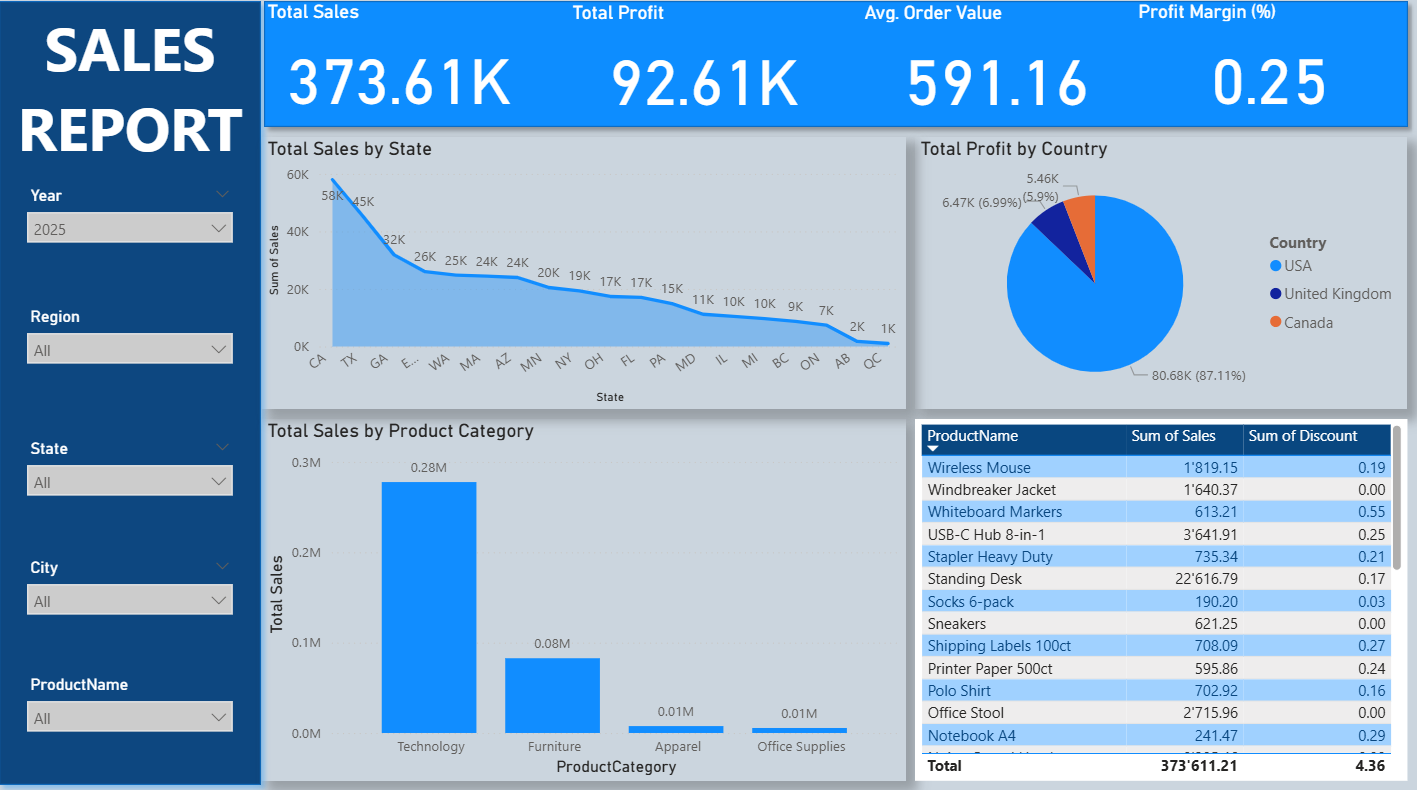

The dashboard page shown, as its layout file describes it:
{"tool":"powerbi","page":{"name":"Page 1","canvas":[1280,720],"ordinal":0},"visuals":[{"type":"shape","box":[0,0,252.5,720],"z":0},{"type":"shape","box":[237.3,0,1042.4,130.7],"z":1000},{"type":"areaChart","title":"Total Sales by State","fields":{"Category":["sales_data.State"],"Y":["Sum(sales_data.Sales)"]},"box":[244.5,130.7,576.7,243.6],"z":2000},{"type":"pieChart","fields":{"Y":["sales_data.Total Profit"],"Category":["sales_data.Country"]},"box":[829.3,130.7,441.5,243.6],"z":3000},{"type":"clusteredColumnChart","title":"Total Sales by Product Category","fields":{"Y":["sales_data.Total Sales"],"Category":["sales_data.ProductCategory"]},"box":[244.5,383.3,576.7,324.2],"z":4000},{"type":"tableEx","fields":{"Values":["sales_data.ProductName","Sum(sales_data.Sales)","Sum(sales_data.Discount)"]},"box":[829.3,383.3,441.5,324.2],"z":5000},{"type":"card","title":"Total Sales","fields":{"Values":["sales_data.Total Sales"]},"box":[244.5,8.1,245.4,112.8],"z":6000},{"type":"card","title":"Total Profit","fields":{"Values":["sales_data.Total Profit"]},"box":[517.6,9,245.4,112.8],"z":7000},{"type":"card","title":"Avg. Order Value","fields":{"Values":["sales_data.Avg Order Value"]},"box":[779.1,9,245.4,112.8],"z":8000},{"type":"card","title":"Profit Margin (%)","fields":{"Values":["sales_data.Profit Margin %"]},"box":[1024.5,8.1,245.4,112.8],"z":9000},{"type":"textbox","box":[12.5,9,227.5,161.2],"z":10000},{"type":"slicer","fields":{"Values":["sales_data.OrderDate.Variation.Date Hierarchy.Year"]},"box":[24.2,170.1,204.2,70.7],"z":11000},{"type":"slicer","fields":{"Values":["sales_data.Region"]},"box":[24.2,278.5,204.2,70.7],"z":11001},{"type":"slicer","fields":{"Values":["sales_data.State"]},"box":[24.2,396.7,204.2,79.7],"z":11002},{"type":"slicer","fields":{"Values":["sales_data.City"]},"box":[24.2,503.3,204.2,70.7],"z":11003},{"type":"slicer","fields":{"Values":["sales_data.ProductName"]},"box":[24.2,608.1,204.2,70.7],"z":11004}]}

Visuals, with their boxes in screenshot pixels (x1, y1, x2, y2), scaled from the page's 1280x720 canvas onto the 1417x790 screenshot:
shape: region(0, 0, 280, 789)
shape: region(263, 0, 1416, 143)
"Total Sales by State" areaChart: region(271, 143, 909, 411)
pieChart - sales_data.Total Profit x sales_data.Country: region(918, 143, 1407, 411)
"Total Sales by Product Category" clusteredColumnChart: region(271, 421, 909, 776)
tableEx - sales_data.ProductName x Sum(sales_data.Sales): region(918, 421, 1407, 776)
"Total Sales" card: region(271, 9, 542, 133)
"Total Profit" card: region(573, 10, 845, 134)
"Avg. Order Value" card: region(862, 10, 1134, 134)
"Profit Margin (%)" card: region(1134, 9, 1406, 133)
textbox: region(14, 10, 266, 187)
slicer - sales_data.OrderDate.Variation.Date Hierarchy.Year: region(27, 187, 253, 264)
slicer - sales_data.Region: region(27, 306, 253, 383)
slicer - sales_data.State: region(27, 435, 253, 523)
slicer - sales_data.City: region(27, 552, 253, 630)
slicer - sales_data.ProductName: region(27, 667, 253, 745)
